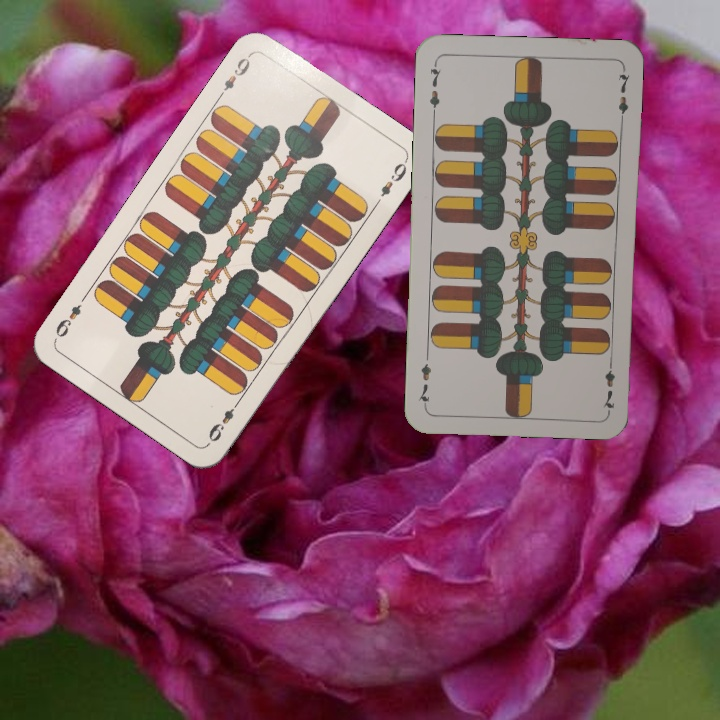E7: (426, 59, 444, 118), (599, 354, 617, 413)
E9: (204, 395, 244, 446), (214, 50, 254, 101)
